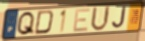1: (59, 8, 69, 34)
D: (33, 9, 56, 35)
E: (72, 7, 92, 33)
J: (111, 6, 127, 30)
Q: (15, 11, 36, 36)
U: (90, 5, 111, 32)
